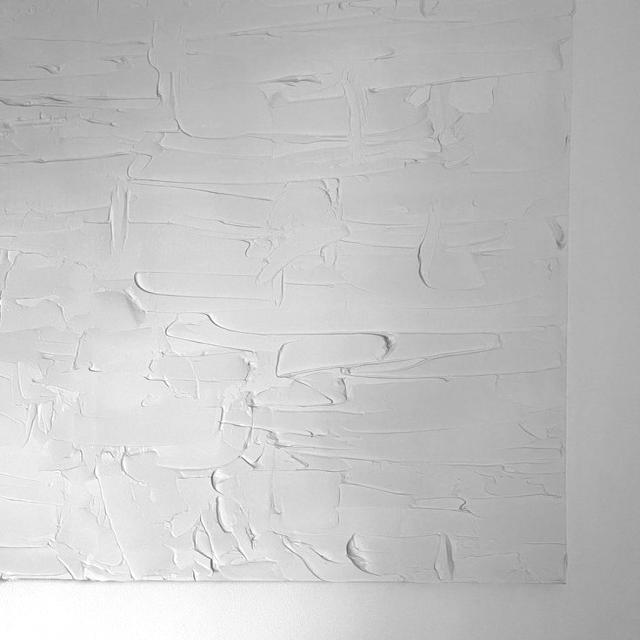trowels marks: (0, 2, 577, 585)
